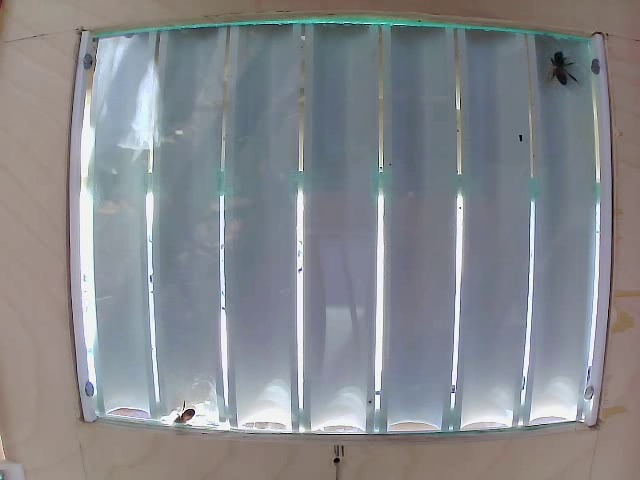bee: (550, 55, 579, 94)
